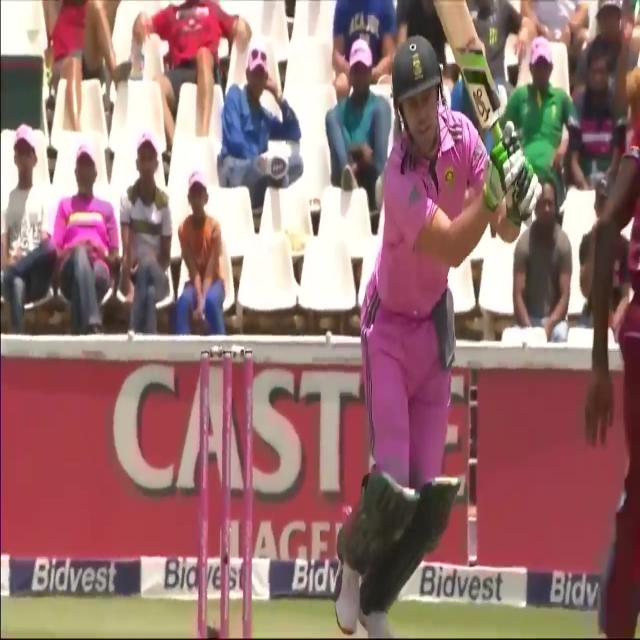Ball: (341, 28, 529, 638)
Fielder: (573, 39, 640, 635)
